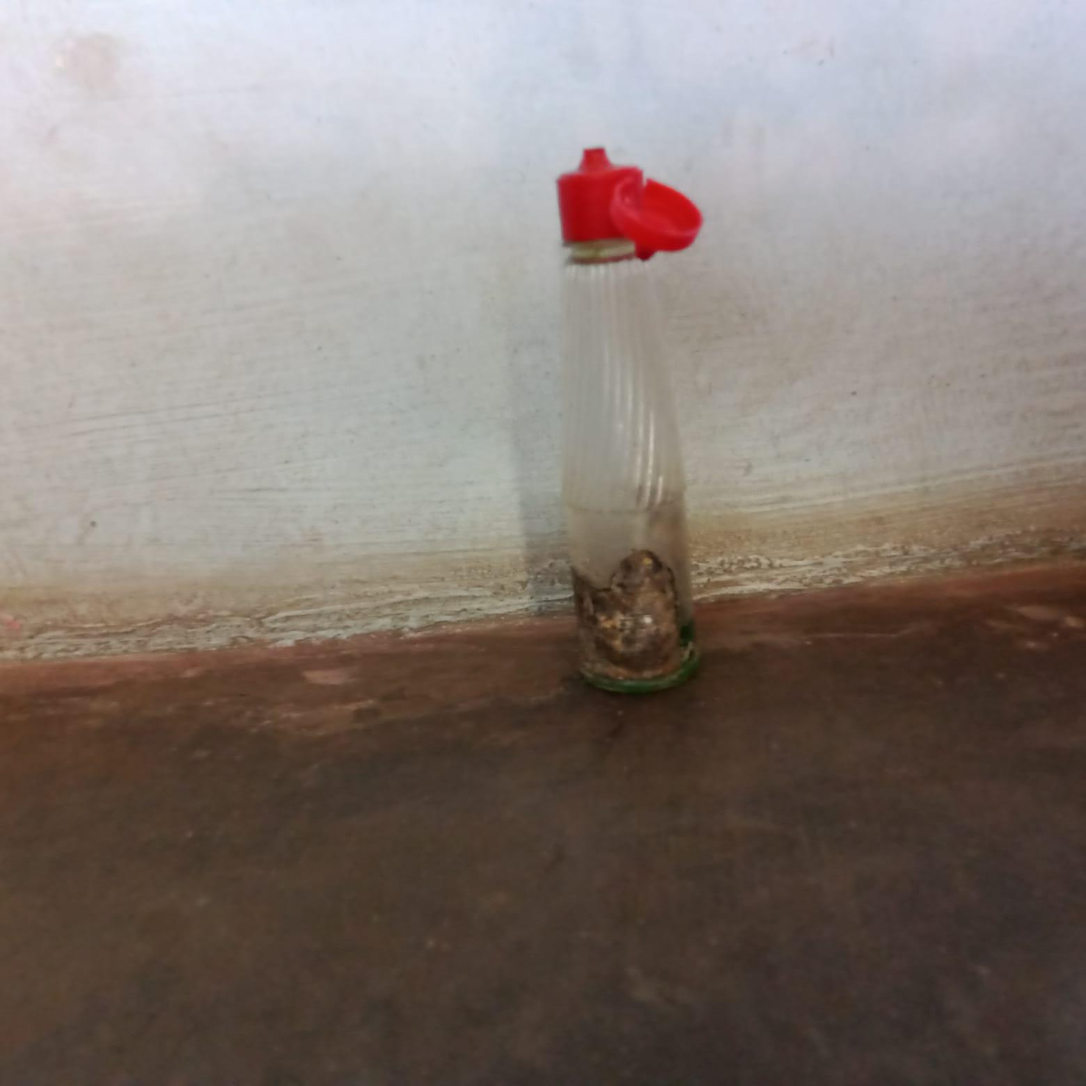Plastik: (553, 144, 713, 695)
